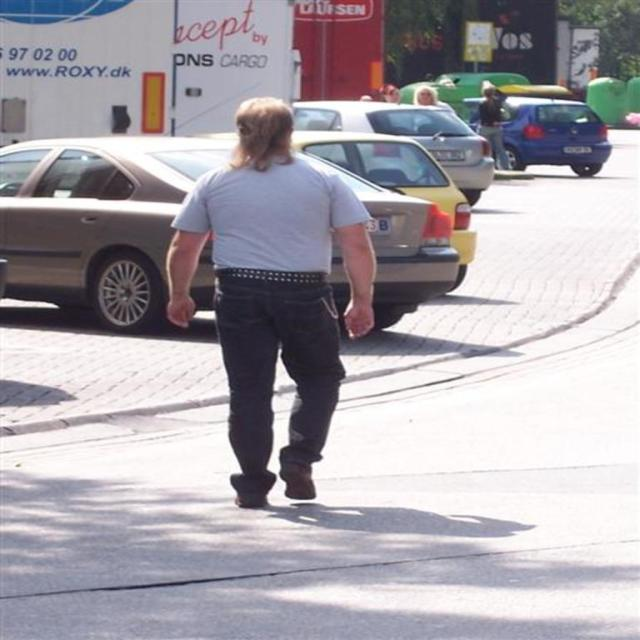no_helmet: (252, 80, 332, 154)
